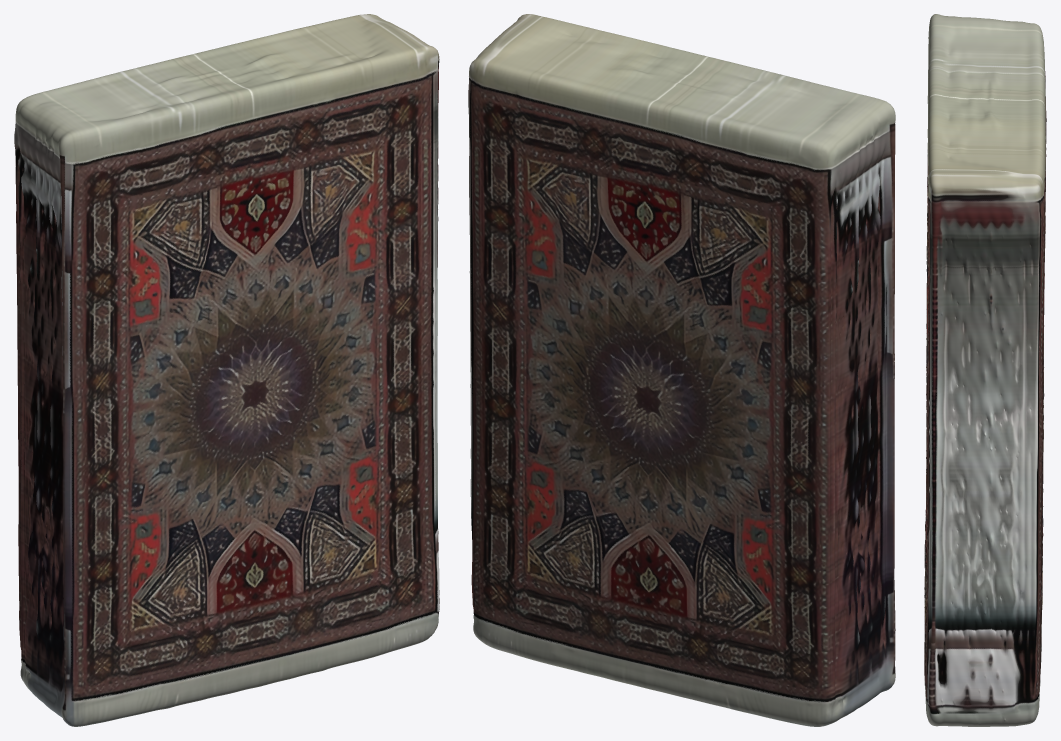
File: kfl-2162.glb
3 views of the same model, side by side, from view 1: azimuth 30°, elevation 25°; view 2: azimuth 150°, elevation 25°; view 3: azimuth 270°, elevation 25° (orthographic). The views are drawn at different scales.
Parts seen in each view (by area): view 1: kfl-2162; view 2: kfl-2162; view 3: kfl-2162.
Part boxes in pixels (box(x1,y1,x2,y2)): kfl-2162: box(14, 14, 439, 726); kfl-2162: box(468, 14, 895, 726); kfl-2162: box(924, 14, 1046, 726).
Bounding box in the file's own units: 0.6615 × 0.9962 × 0.1985.
Materials: 1 (1 with a texture image).
